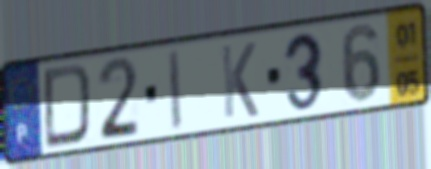2: (95, 54, 141, 142)
3: (282, 28, 331, 116)
6: (338, 20, 382, 107)
D: (41, 60, 95, 152)
I: (166, 46, 184, 133)
K: (218, 39, 261, 121)
